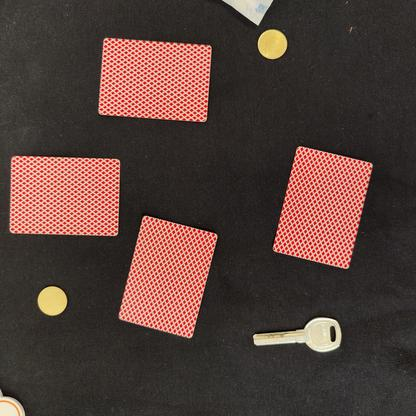card: (265, 129, 383, 283), (117, 211, 229, 354), (82, 27, 224, 132), (2, 147, 132, 247)
